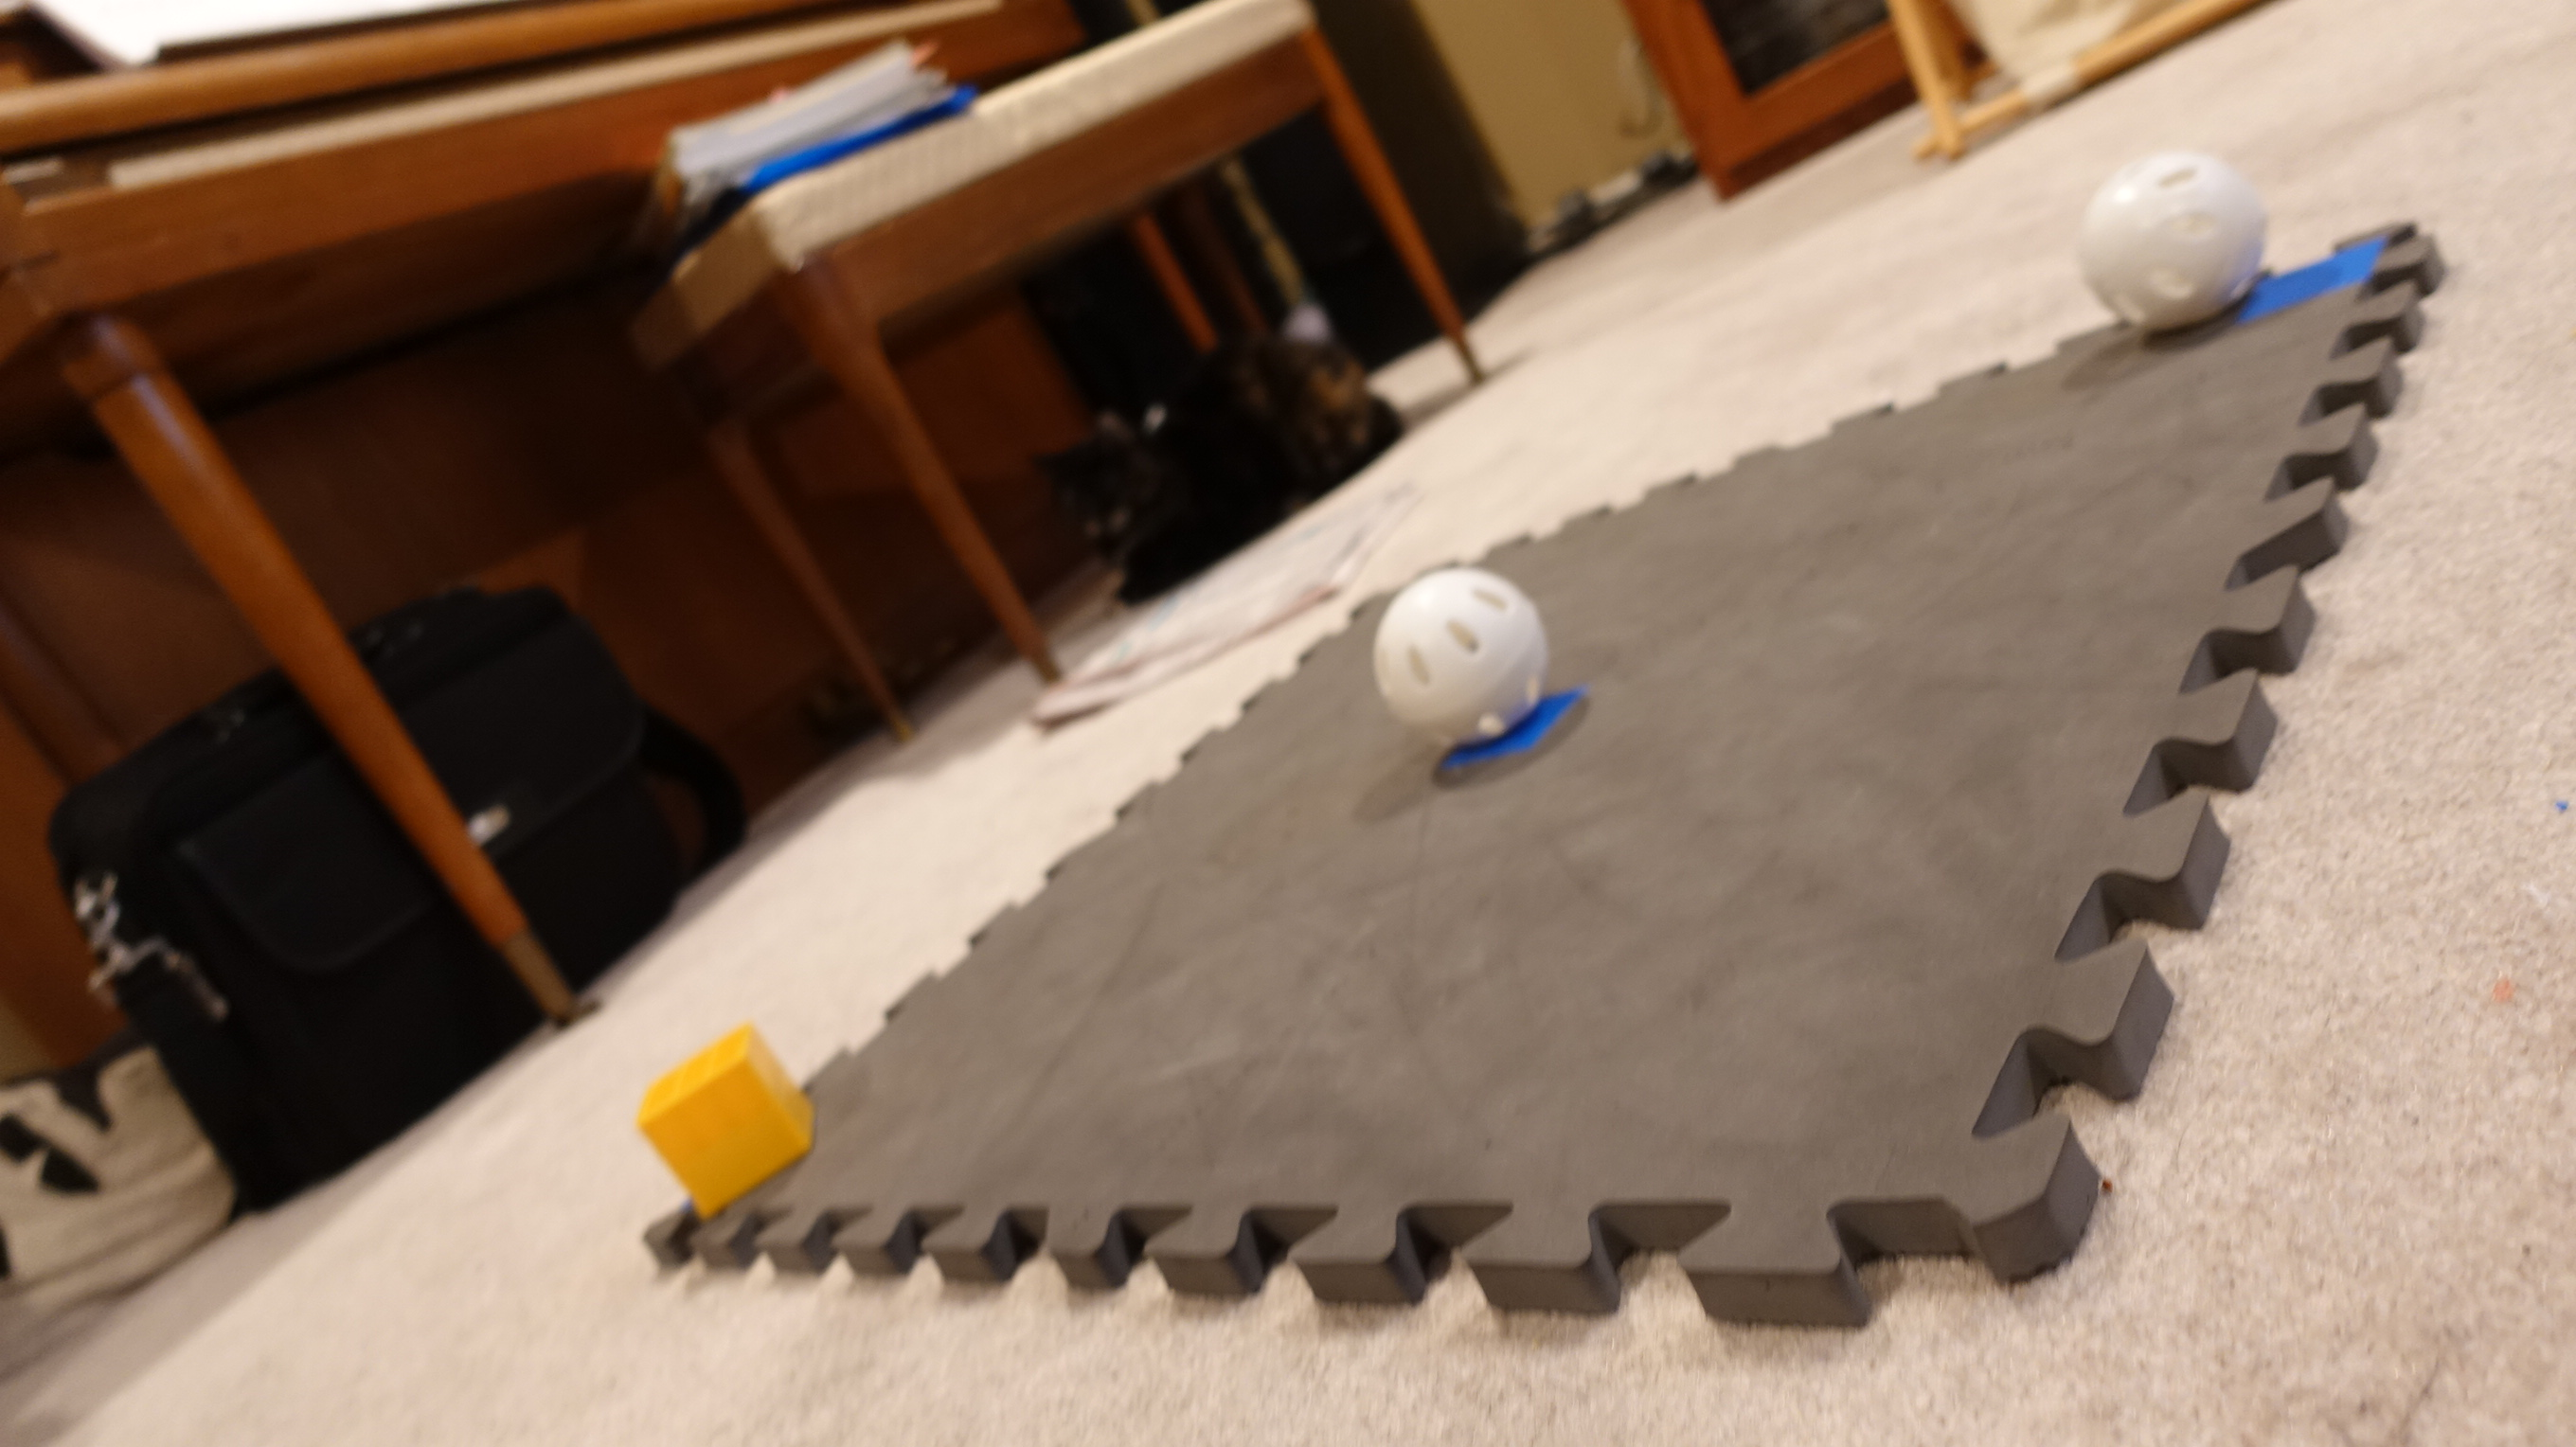gold: (626, 1021, 830, 1228)
silver: (1364, 564, 1571, 748), (2070, 154, 2279, 333)
